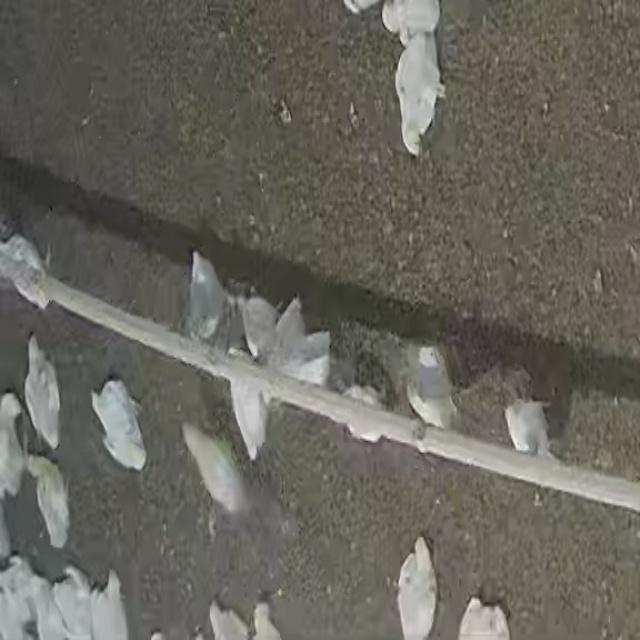chicken: (179, 422, 251, 524), (394, 27, 446, 154), (91, 380, 153, 476), (268, 302, 329, 386), (405, 344, 457, 431), (396, 536, 438, 640), (23, 335, 59, 451), (1, 230, 49, 306), (31, 456, 70, 549), (187, 251, 220, 350), (231, 376, 269, 460), (504, 398, 554, 460), (50, 568, 94, 638), (239, 290, 279, 359), (382, 0, 443, 45), (0, 396, 28, 493), (94, 572, 131, 639), (457, 596, 511, 638), (210, 601, 253, 638)
